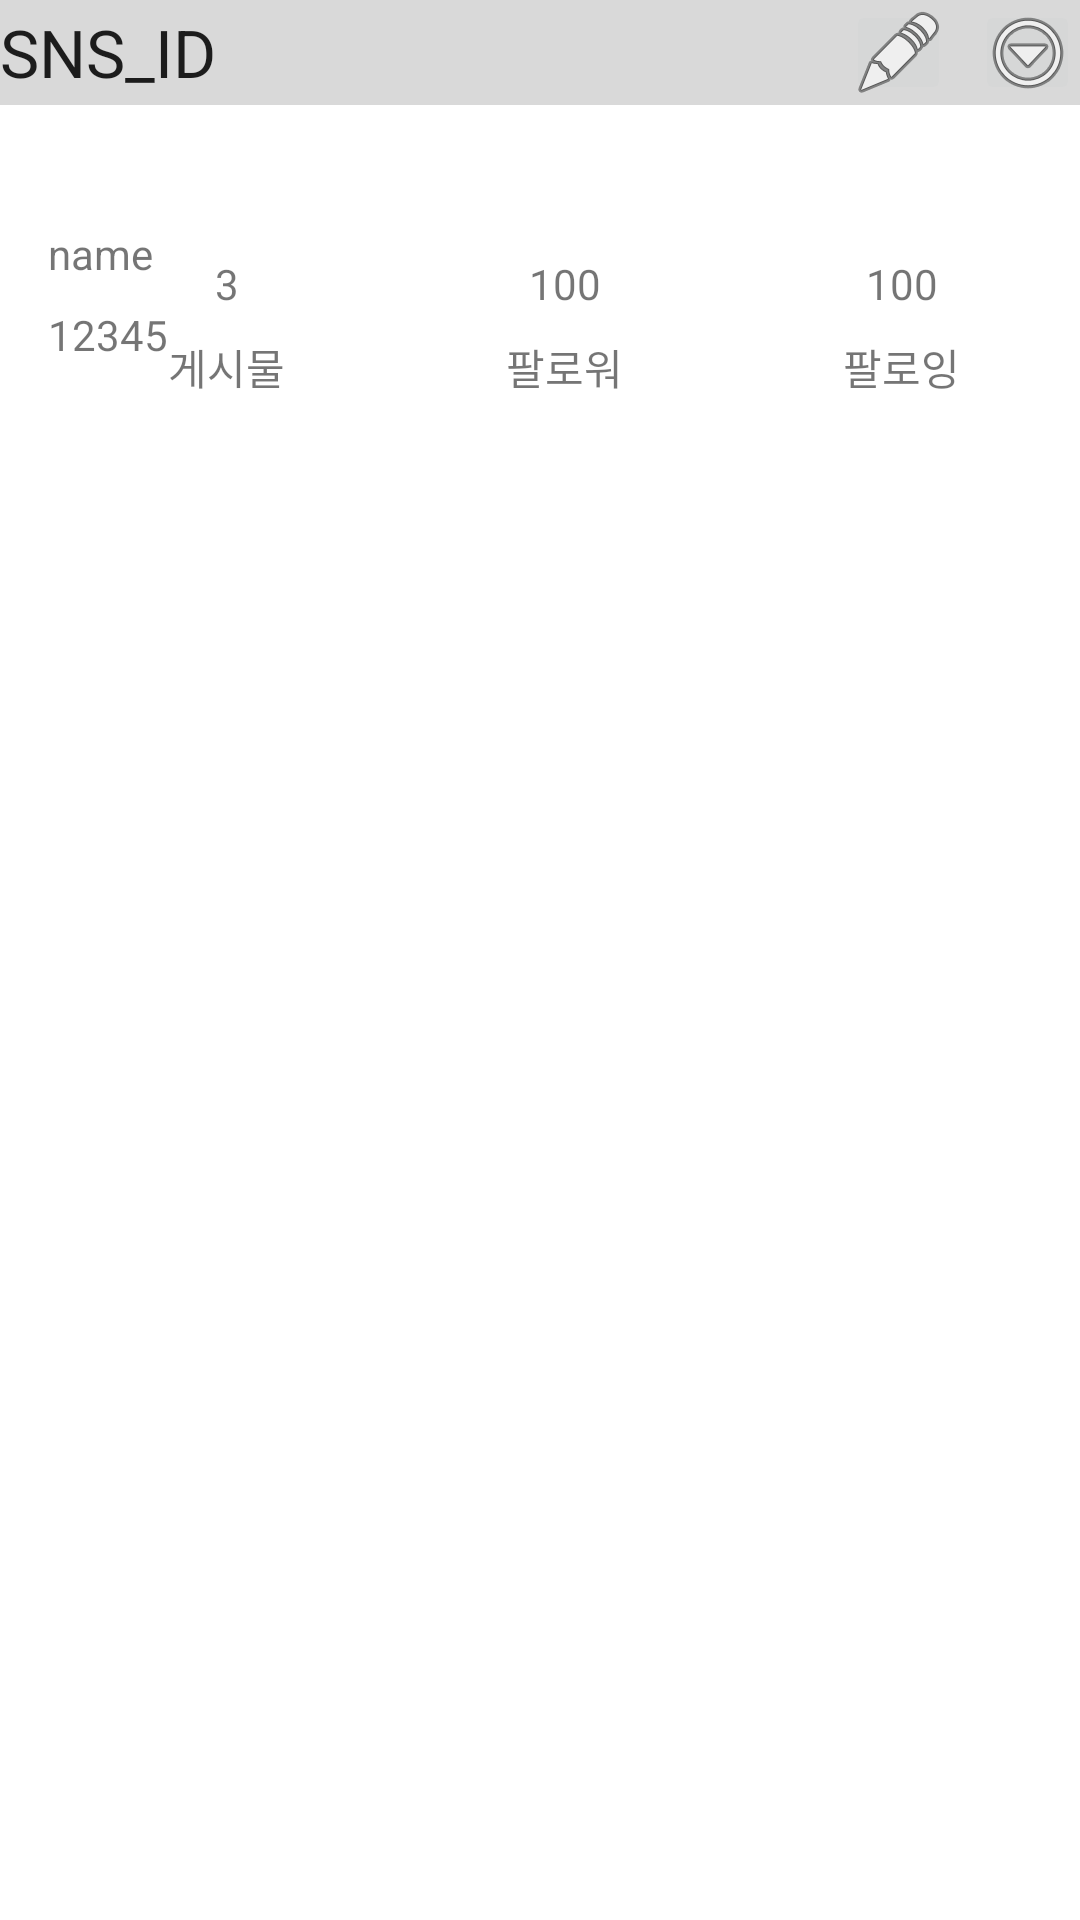

Named icons in this screenshot (1080 × 1920) and their centers, point (x, y):
edit: point (898, 52)
more: point (1028, 53)
